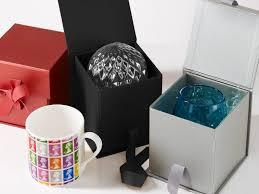cube: (149, 73, 247, 191)
